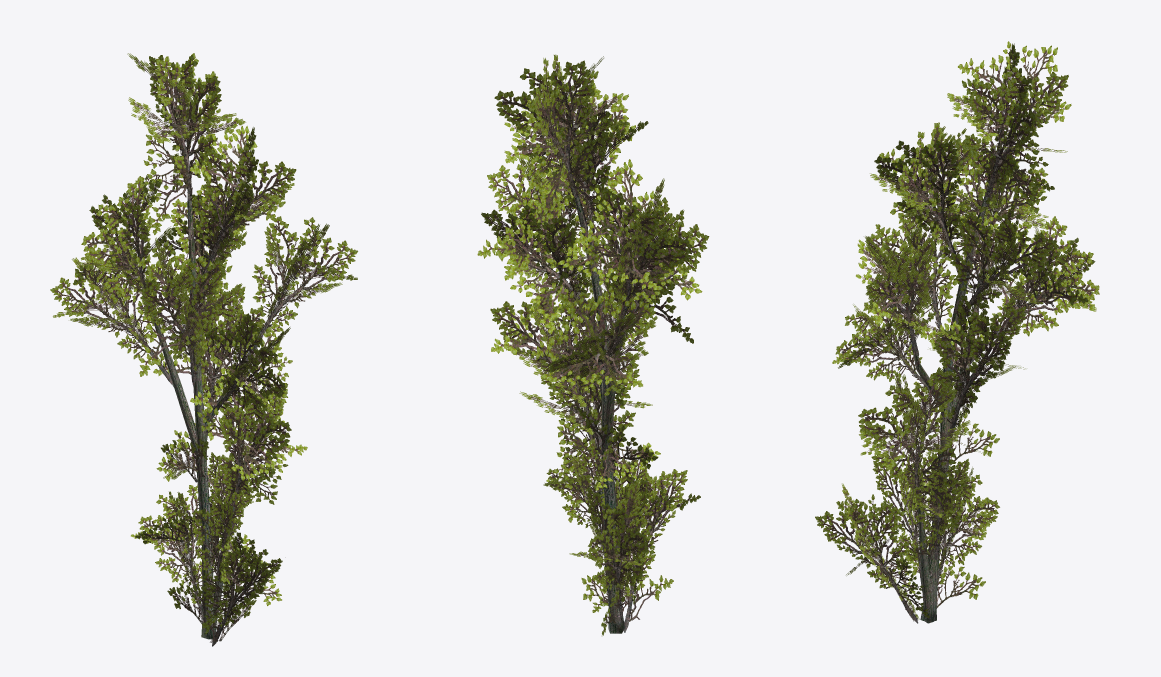
File: flora_tree_poplar_v2.glb
3 renders of one model, left to right at view 1: azimuth 30°, elevation 25°; view 2: azimuth 150°, elevation 25°; view 3: azimuth 270°, elevation 25°, orthographic. The views are drawn at different scales.
Parts seen in each view (by area): view 1: flora_tree_poplar_v2_part0; view 2: flora_tree_poplar_v2_part0; view 3: flora_tree_poplar_v2_part0.
Part boxes in pixels (x1,y1,x2,y2): flora_tree_poplar_v2_part0: (50,53,357,646); flora_tree_poplar_v2_part0: (477,54,709,635); flora_tree_poplar_v2_part0: (815,41,1099,623).
Size of the model in its own units: 15.64 by 28.47 by 14.83.
1 material, 1 textured.
